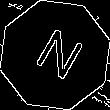N_SW: (25, 23, 85, 87)
